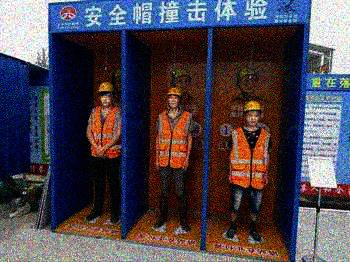helmet: (97, 81, 116, 108), (244, 100, 262, 126), (165, 86, 183, 111)
